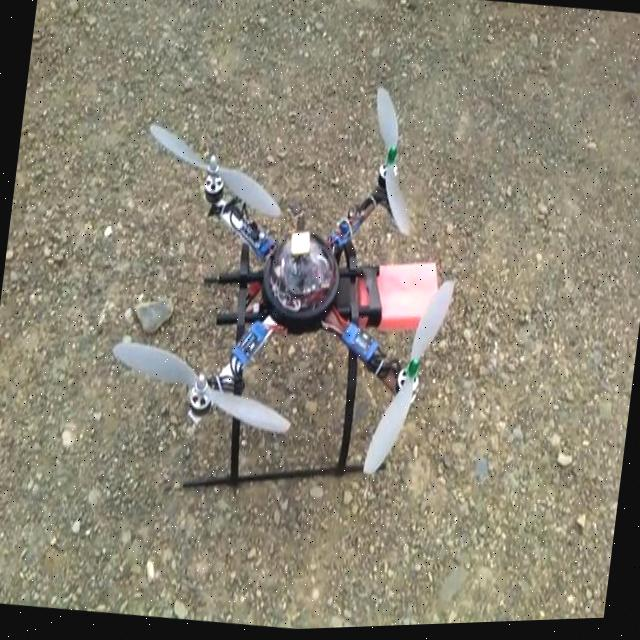drone: (92, 51, 480, 527)
